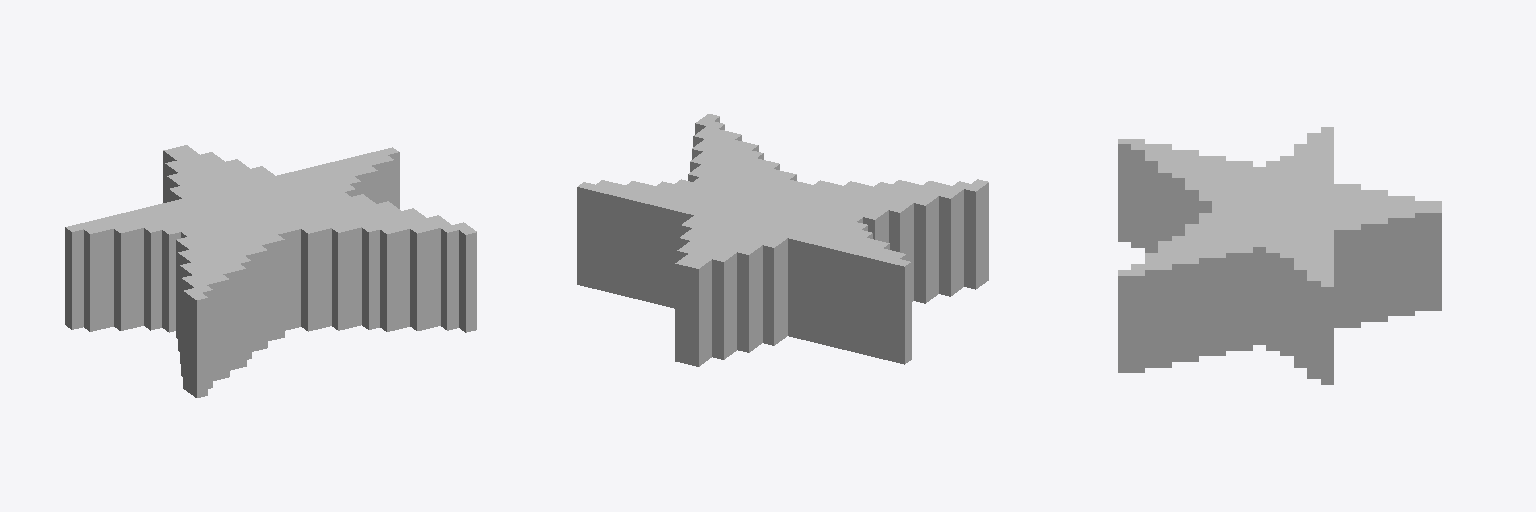
The model's file is stellar collapser altar.obj.
3 renders of one model, left to right at view 1: azimuth 30°, elevation 25°; view 2: azimuth 150°, elevation 25°; view 3: azimuth 270°, elevation 25°, orthographic.
Parts seen in each view (by area): view 1: object 1; view 2: object 1; view 3: object 1.
Boxes of the visible parts, box(x1,y1,x2,y2) form: object 1: box(65, 145, 476, 397); object 1: box(577, 114, 988, 366); object 1: box(1118, 127, 1441, 384).
Size of the model in its own units: 2.8 by 0.8 by 2.4.